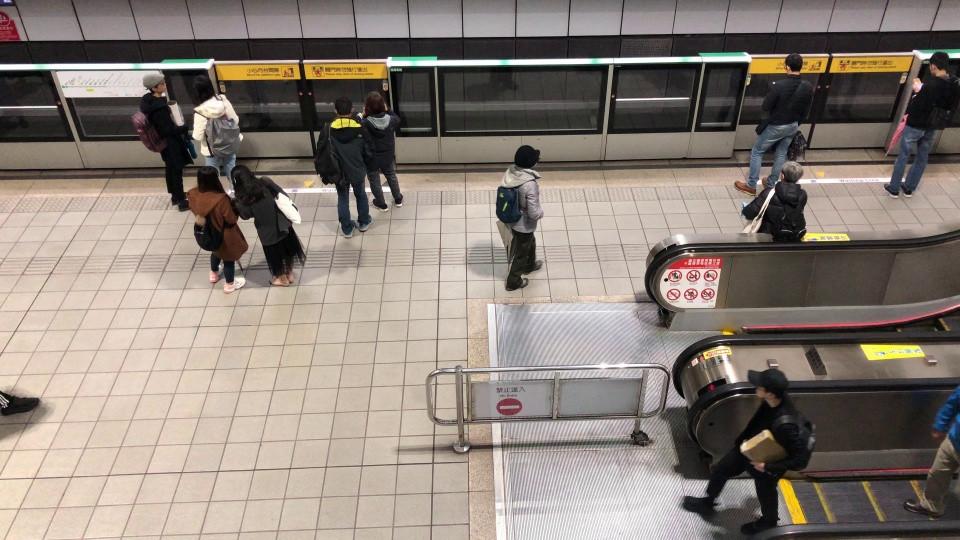person_head: (745, 367, 789, 408), (193, 165, 227, 195), (230, 164, 260, 196), (512, 143, 541, 169), (191, 75, 215, 104), (138, 77, 169, 98), (365, 90, 386, 120), (927, 51, 951, 77), (779, 160, 803, 184), (781, 53, 804, 77), (332, 96, 353, 119)
person_vbox: (679, 367, 817, 535), (882, 51, 960, 202), (119, 76, 201, 213), (733, 52, 809, 196), (228, 163, 308, 289), (899, 372, 960, 521), (312, 96, 373, 240), (183, 166, 250, 293), (493, 141, 543, 291), (186, 75, 244, 196), (353, 90, 405, 215), (736, 160, 812, 242)
